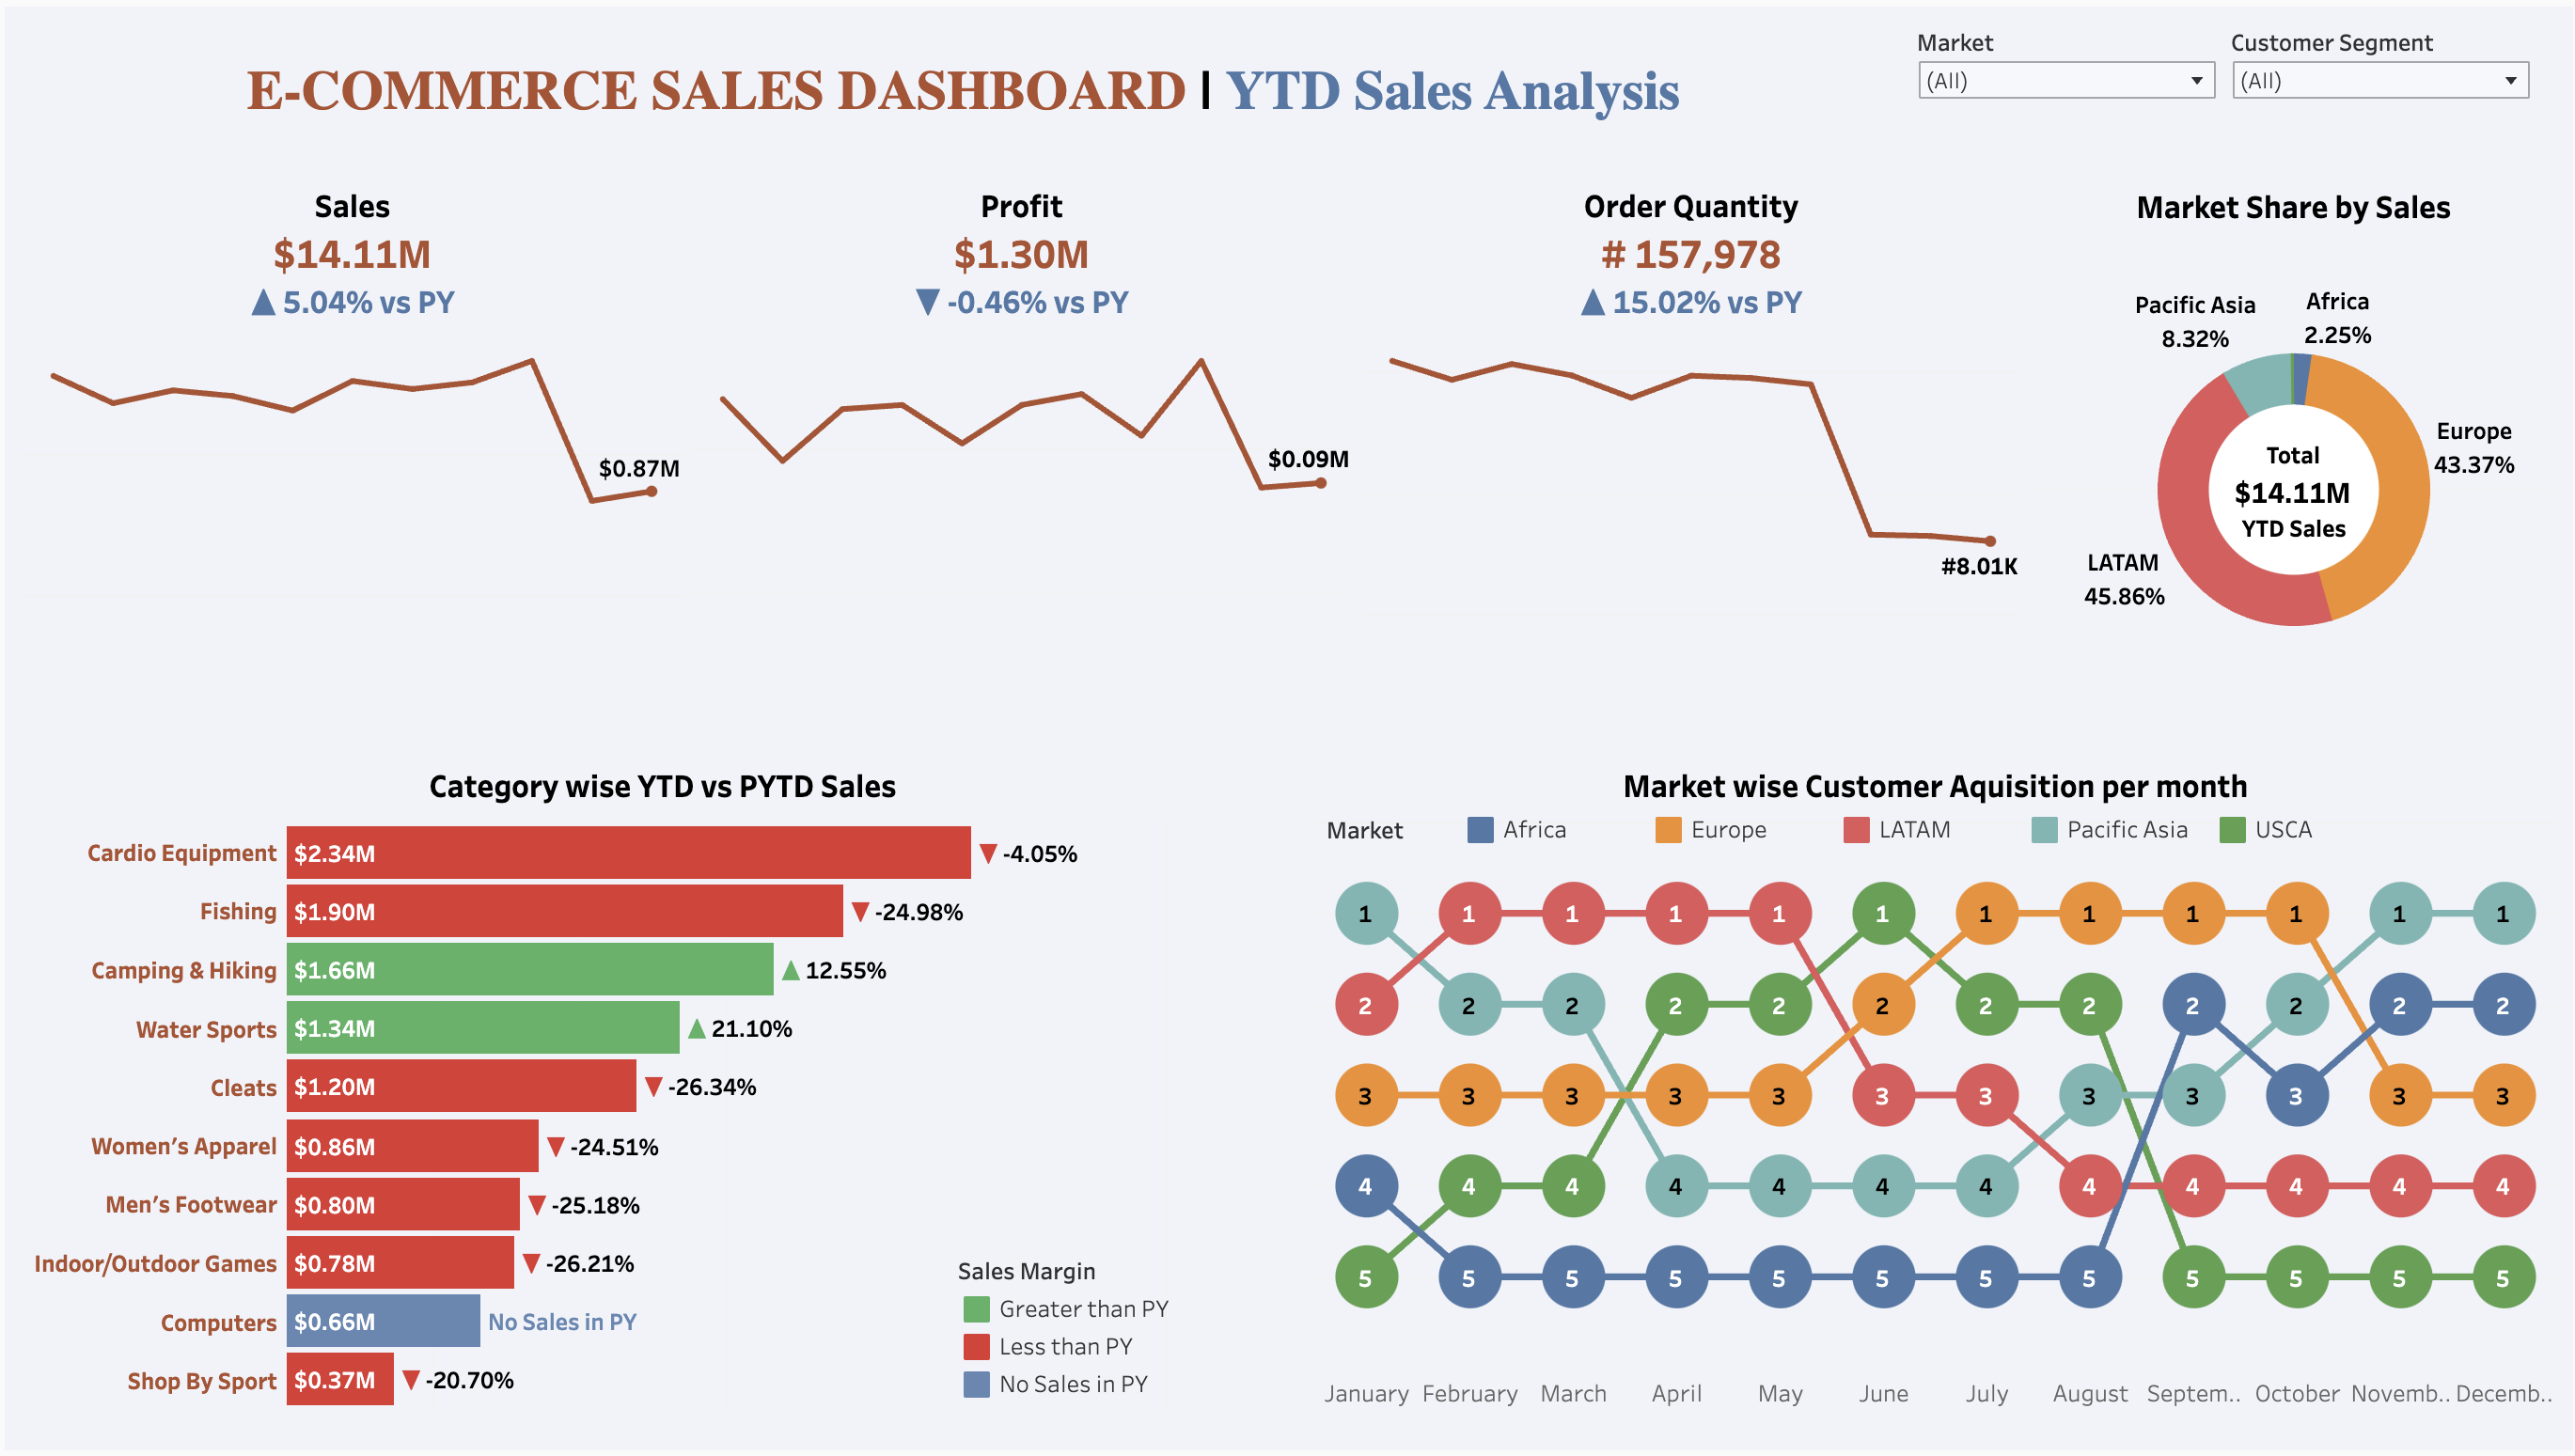

Layout of this report page (visuals, bound fields, positions):
{"tool":"tableau","page":{"name":"E-Commerce","canvas":[1366,768],"ordinal":0},"visuals":[{"type":"title","box":[10,10,1000,70]},{"type":"filter","title":"KPI_Sales","param":"[federated.0yx0nn90ailuf912rzrw21j6yd5j].[none:Market:nk]","box":[1017,10,160,70]},{"type":"filter","title":"KPI_Sales","param":"[federated.0yx0nn90ailuf912rzrw21j6yd5j].[none:Customer Segment:nk]","box":[1184,10,160,70]},{"type":"worksheet","title":"KPI_Sales","mark":"Automatic","rows":["Sales"],"cols":["Order Date"],"box":[10,88,350,300]},{"type":"worksheet","title":"KPI_Profit","mark":"Automatic","rows":["Profit Per Order"],"cols":["Order Date"],"box":[366,88,350,300]},{"type":"worksheet","title":"KPI_OrderQty","mark":"Automatic","rows":["Order Quantity"],"cols":["Order Date"],"box":[722,88,350,300]},{"type":"worksheet","title":"Market Share by Sales","mark":"Pie","rows":["Calculation_1248904514158030861","Calculation_1248904514158059535"],"box":[1078,88,279,300]},{"type":"worksheet","title":"Category wise YTD vs PYTD Sales","mark":"Bar","rows":["Category Name"],"cols":["YTD Sales LOD (copy)_1248904514162143248","YTD Sales LOD (copy)_1248904514162143248"],"box":[10,396,680,350]},{"type":"worksheet","title":"Market wise Customer Aquisition per month","mark":"Line","cols":["Order Date"],"box":[697,396,660,350]},{"type":"legend","title":"Market wise Customer Aquisition per month","param":"[federated.0yx0nn90ailuf912rzrw21j6yd5j].[none:Market:nk]","box":[703,428,643,33]},{"type":"legend","title":"Category wise YTD vs PYTD Sales","param":"[federated.0yx0nn90ailuf912rzrw21j6yd5j].[usr:Calculation_1248904514188812316:nk","box":[507,664,140,78]}]}

Visuals, with their boxes in screenshot pixels (x1, y1, x2, y2), scaled from the page's 1366x768 canvas onto the 2575x1456 screenshot:
title: detection(19, 19, 1904, 151)
"KPI_Sales" filter: detection(1917, 19, 2219, 151)
"KPI_Sales" filter: detection(2232, 19, 2534, 151)
"KPI_Sales" worksheet: detection(19, 166, 679, 736)
"KPI_Profit" worksheet: detection(690, 166, 1350, 736)
"KPI_OrderQty" worksheet: detection(1361, 166, 2020, 736)
"Market Share by Sales" worksheet (Pie marks): detection(2033, 166, 2558, 736)
"Category wise YTD vs PYTD Sales" worksheet (Bar marks): detection(19, 751, 1301, 1415)
"Market wise Customer Aquisition per month" worksheet (Line marks): detection(1314, 751, 2558, 1415)
"Market wise Customer Aquisition per month" legend: detection(1326, 811, 2537, 874)
"Category wise YTD vs PYTD Sales" legend: detection(956, 1259, 1219, 1407)
